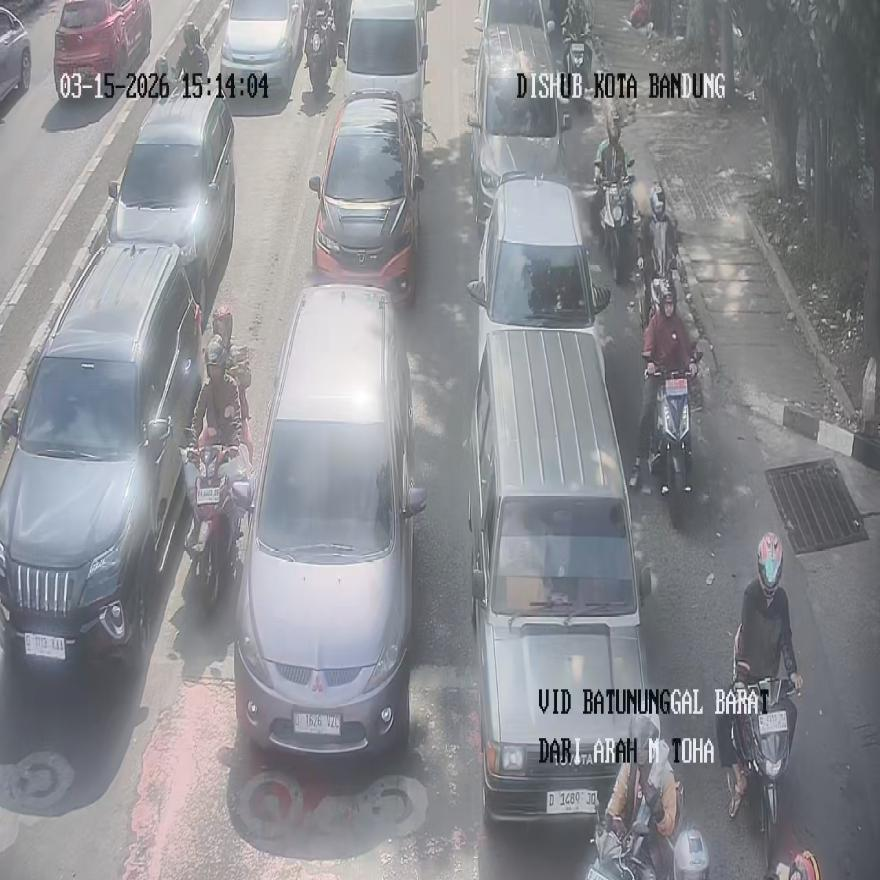Motor: (466, 326, 653, 822), (232, 285, 426, 759), (0, 239, 201, 674), (107, 90, 234, 312), (467, 174, 610, 364), (310, 89, 424, 306), (467, 24, 570, 234), (343, 0, 427, 145), (54, 0, 151, 99), (218, 0, 303, 95), (0, 6, 32, 100)
Truk: (731, 671, 797, 874), (180, 440, 247, 610), (645, 352, 698, 524), (640, 184, 679, 326), (598, 176, 634, 282), (305, 15, 336, 94), (178, 23, 208, 92), (562, 37, 590, 105)
